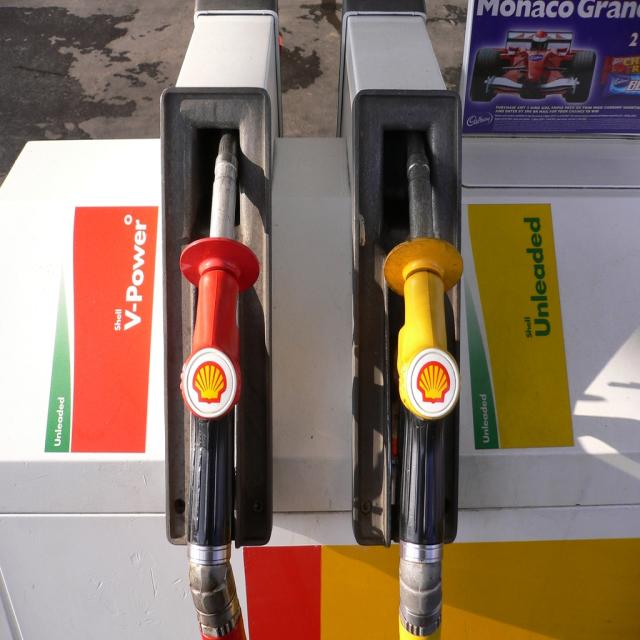shell: (193, 363, 228, 406), (417, 361, 451, 405)
